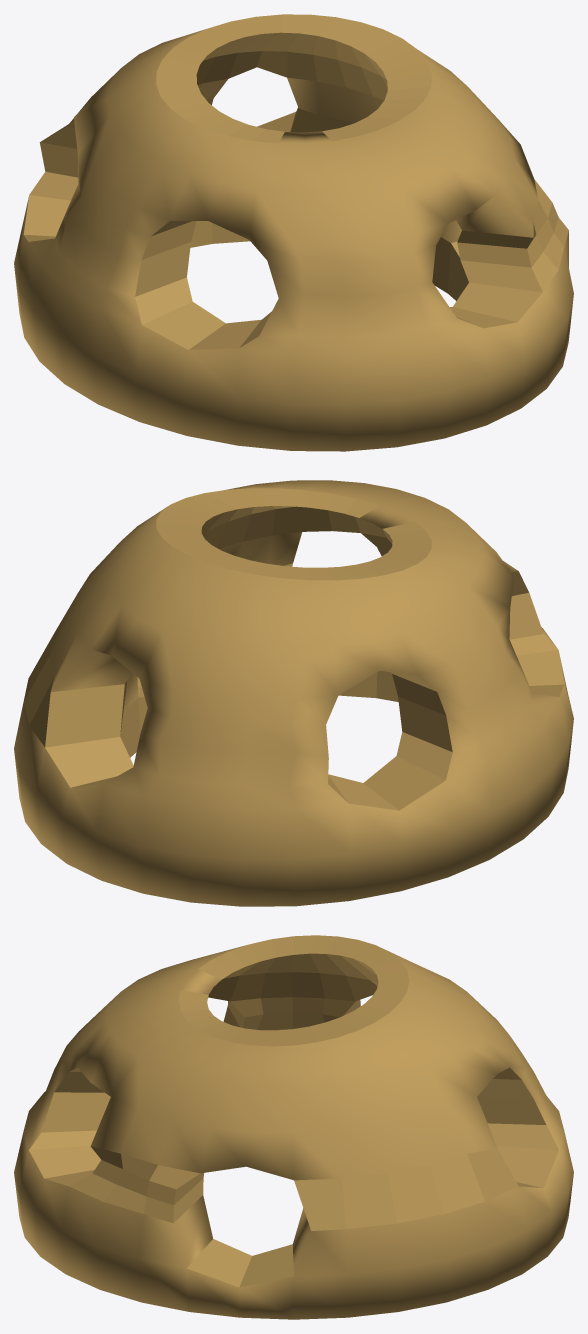
Rendered from SM_artificial_reef.fbx.
3 views of the same model, one above another, from view 1: azimuth 30°, elevation 25°; view 2: azimuth 150°, elevation 25°; view 3: azimuth 270°, elevation 25° (orthographic). The views are drawn at different scales.
Parts seen in each view (by area): view 1: Sphere; view 2: Sphere; view 3: Sphere.
Boxes of the visible parts, left/top/right/bottom form: Sphere: left=14, top=14, right=573, bottom=451; Sphere: left=14, top=480, right=573, bottom=906; Sphere: left=14, top=935, right=573, bottom=1319.
Size of the model in its own units: 4.24 by 2.27 by 4.82.
